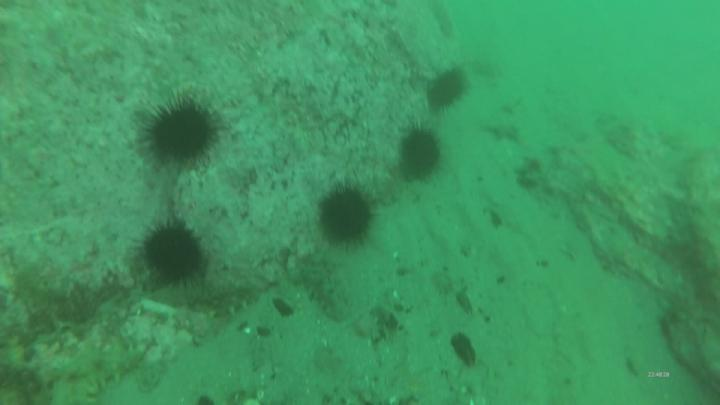echinus: (139, 95, 222, 176), (132, 217, 207, 288), (316, 184, 379, 247), (397, 125, 444, 187), (424, 63, 470, 116)
holothurian: (28, 340, 150, 393)
